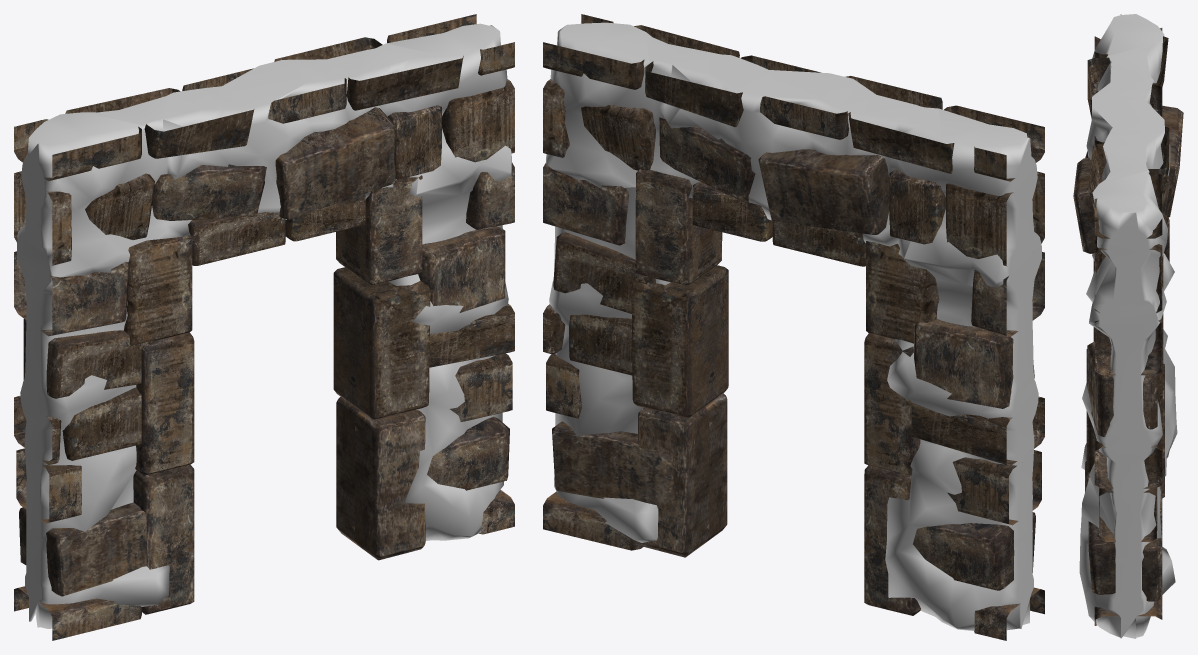
Rendered from taureg_straight_doorway.dae.
3 views of the same model, side by side, from view 1: azimuth 30°, elevation 25°; view 2: azimuth 150°, elevation 25°; view 3: azimuth 270°, elevation 25° (orthographic). The views are drawn at different scales.
Parts seen in each view (by area): view 1: LO__2___40_, Mesh__2_; view 2: LO__2___40_, Mesh__2_; view 3: Mesh__2_, LO__2___40_.
Part boxes in pixels (<box>): LO__2___40_: <box>14,14,514,640</box>; Mesh__2_: <box>17,23,511,628</box>; LO__2___40_: <box>543,14,1044,640</box>; Mesh__2_: <box>546,22,1041,630</box>; Mesh__2_: <box>1079,14,1177,638</box>; LO__2___40_: <box>1073,28,1183,625</box>.
Bounding box in the file's own units: 4 × 4.02 × 0.9374.
